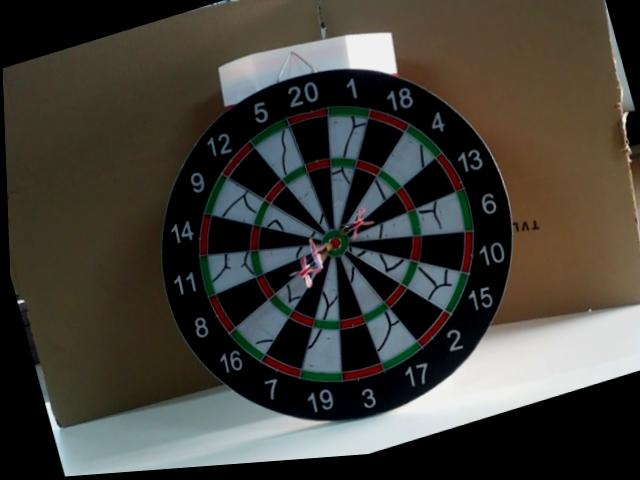bullseye: (323, 230, 351, 258)
